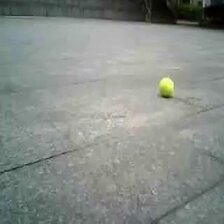tennis: (159, 78, 174, 96)
